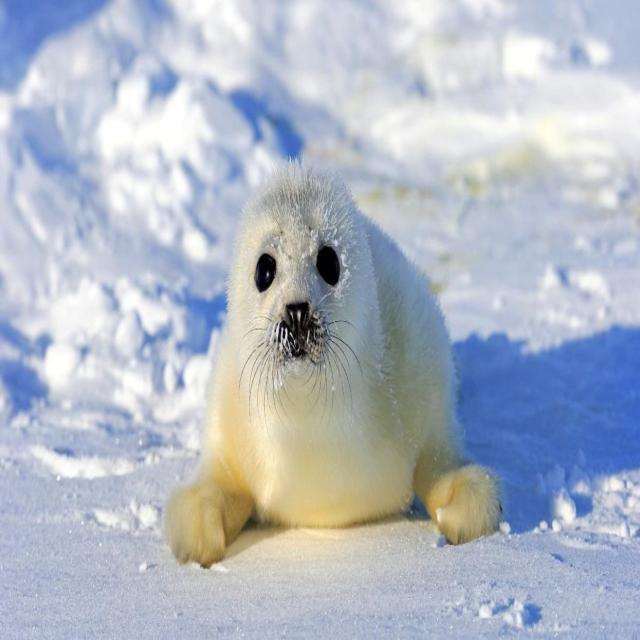seal: (164, 158, 502, 565)
